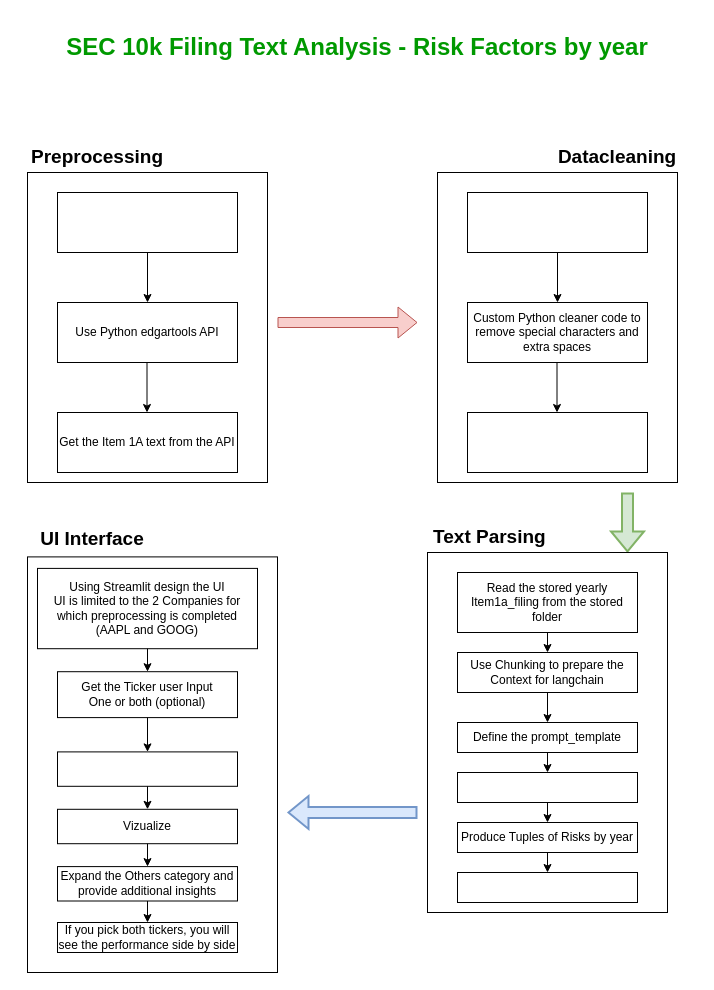
Image size: 714x990. Some labels were removed from this diagram. Each missing label, with the centre of its shape:
Determine the Section we are extracting for analysis (Item 1A - Risk Factors): (x=147, y=222)
Get the Extract Item 1A text for a Company (Ticker): (x=557, y=222)
Parse the Tuples and categorize them to 10 buckets: (x=147, y=768)
Store the Data in a local folder (/data/item1a_filings/<ticker>: (x=557, y=442)
use map_reduce: (x=547, y=787)
Write all the tuples for the Company to a csv file: (x=547, y=887)
